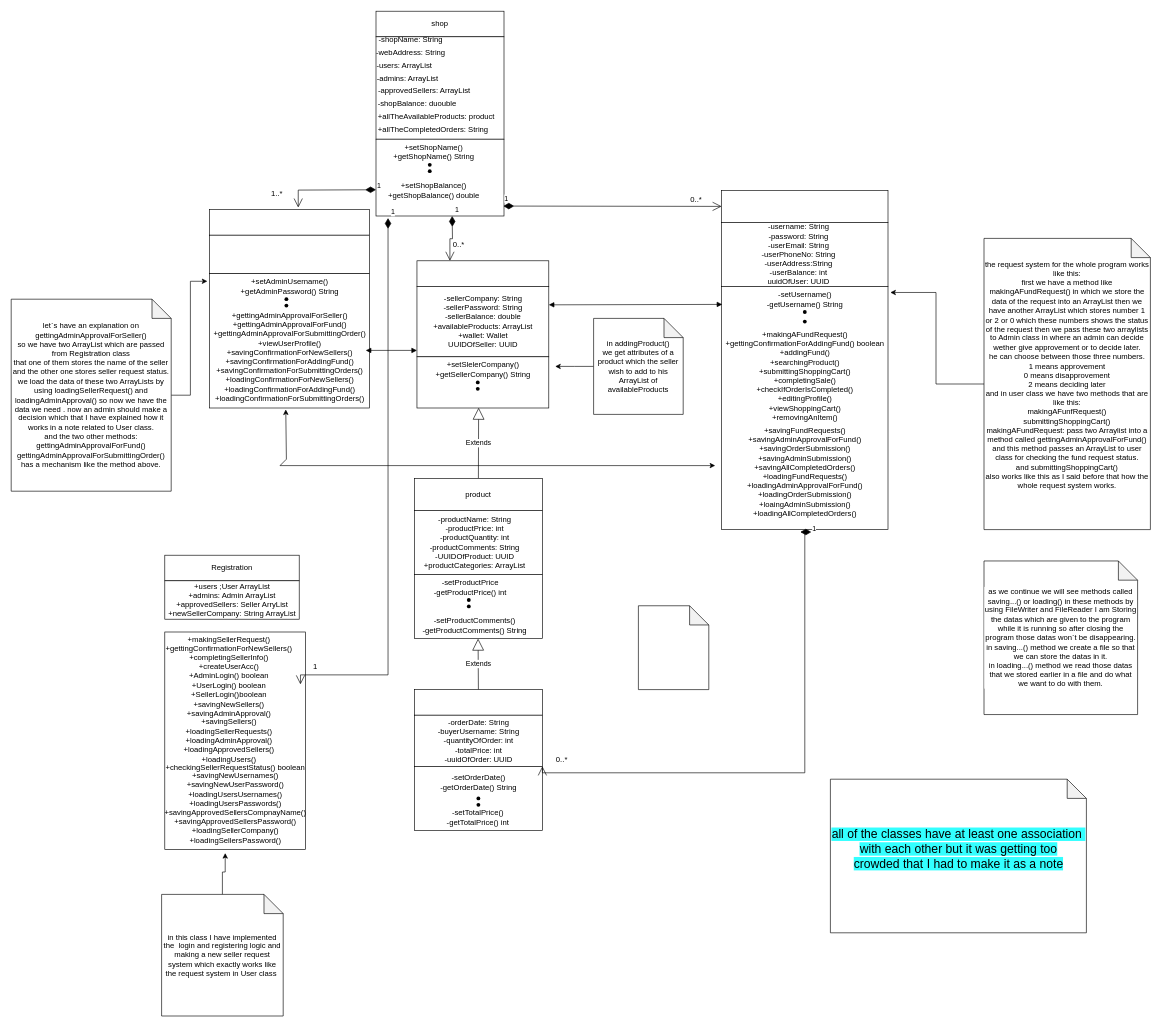
Some shapes in this 1162 by 1027 pixel diagram are drawn without their labels. The centre of each missing label's shape, as x and y in pixels:
"+addingProducts()" belongs at point (477, 388).
"-adminUsername: String -adminPassowrd: String -adminEmail: String" belongs at point (289, 254).
"Admin" belongs at point (289, 222).
"i have implemented file system" belongs at point (673, 647).
"Order" belongs at point (478, 702).
"Seller" belongs at point (482, 273).
"User(Buyer)" belongs at point (804, 206).
